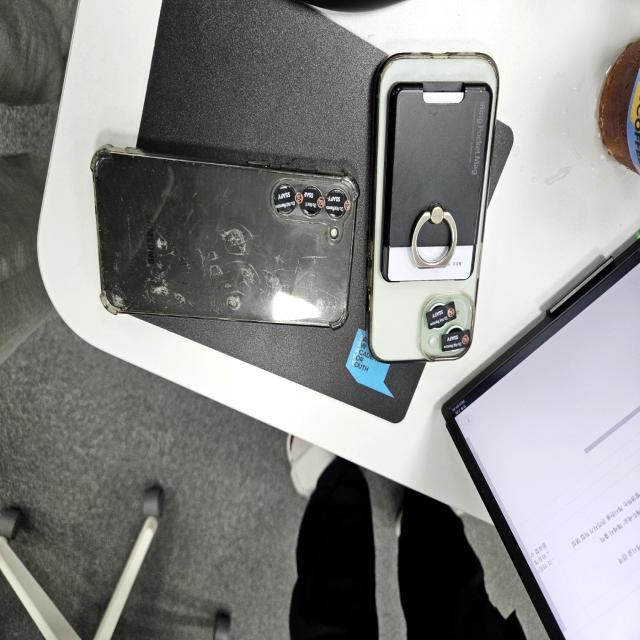phone: (92, 146, 356, 329), (368, 48, 496, 358)
sticker: (426, 302, 458, 326), (324, 191, 350, 218), (441, 330, 472, 351), (273, 188, 296, 212), (302, 188, 322, 212)
